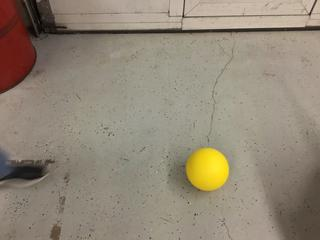power_cell: (185, 146, 231, 196)
